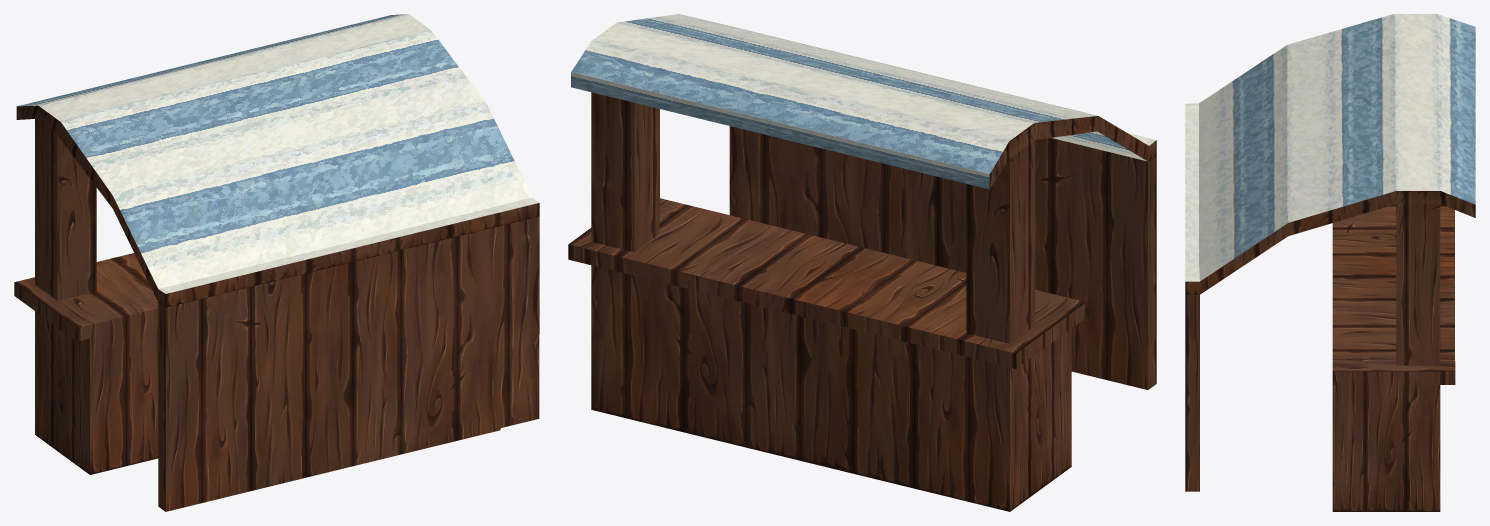
Rendered from MarketStall.FBX.
3 renders of one model, left to right at view 1: azimuth 30°, elevation 25°; view 2: azimuth 150°, elevation 25°; view 3: azimuth 270°, elevation 25°, orthographic. The views are drawn at different scales.
Parts seen in each view (by area): view 1: Box002; view 2: Box002; view 3: Box002.
Boxes of the visible parts, x1,y1,x2,y2 form: Box002: (14,14,539,511); Box002: (568,14,1156,511); Box002: (1185,14,1475,511).
Size of the model in its own units: 30.68 by 19.78 by 24.13.
Materials: 2 (2 with a texture image).
